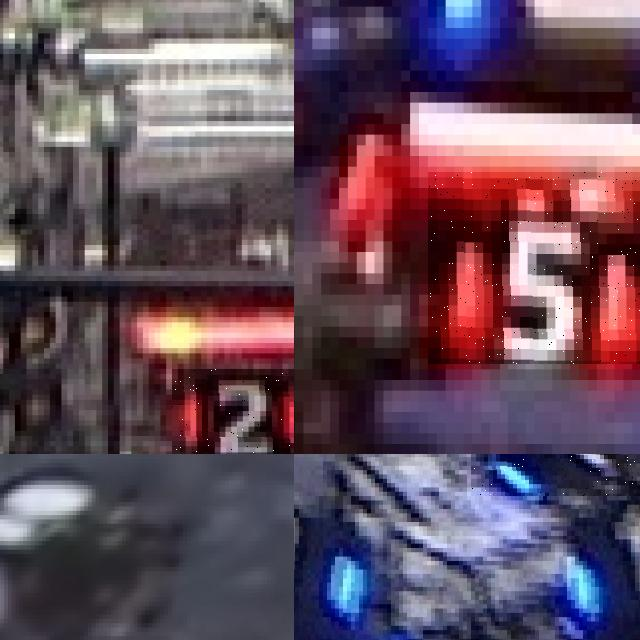B1: (294, 500, 375, 625), (567, 491, 640, 608), (471, 454, 640, 496)
R2: (172, 369, 294, 454)
R5: (427, 172, 640, 364)
